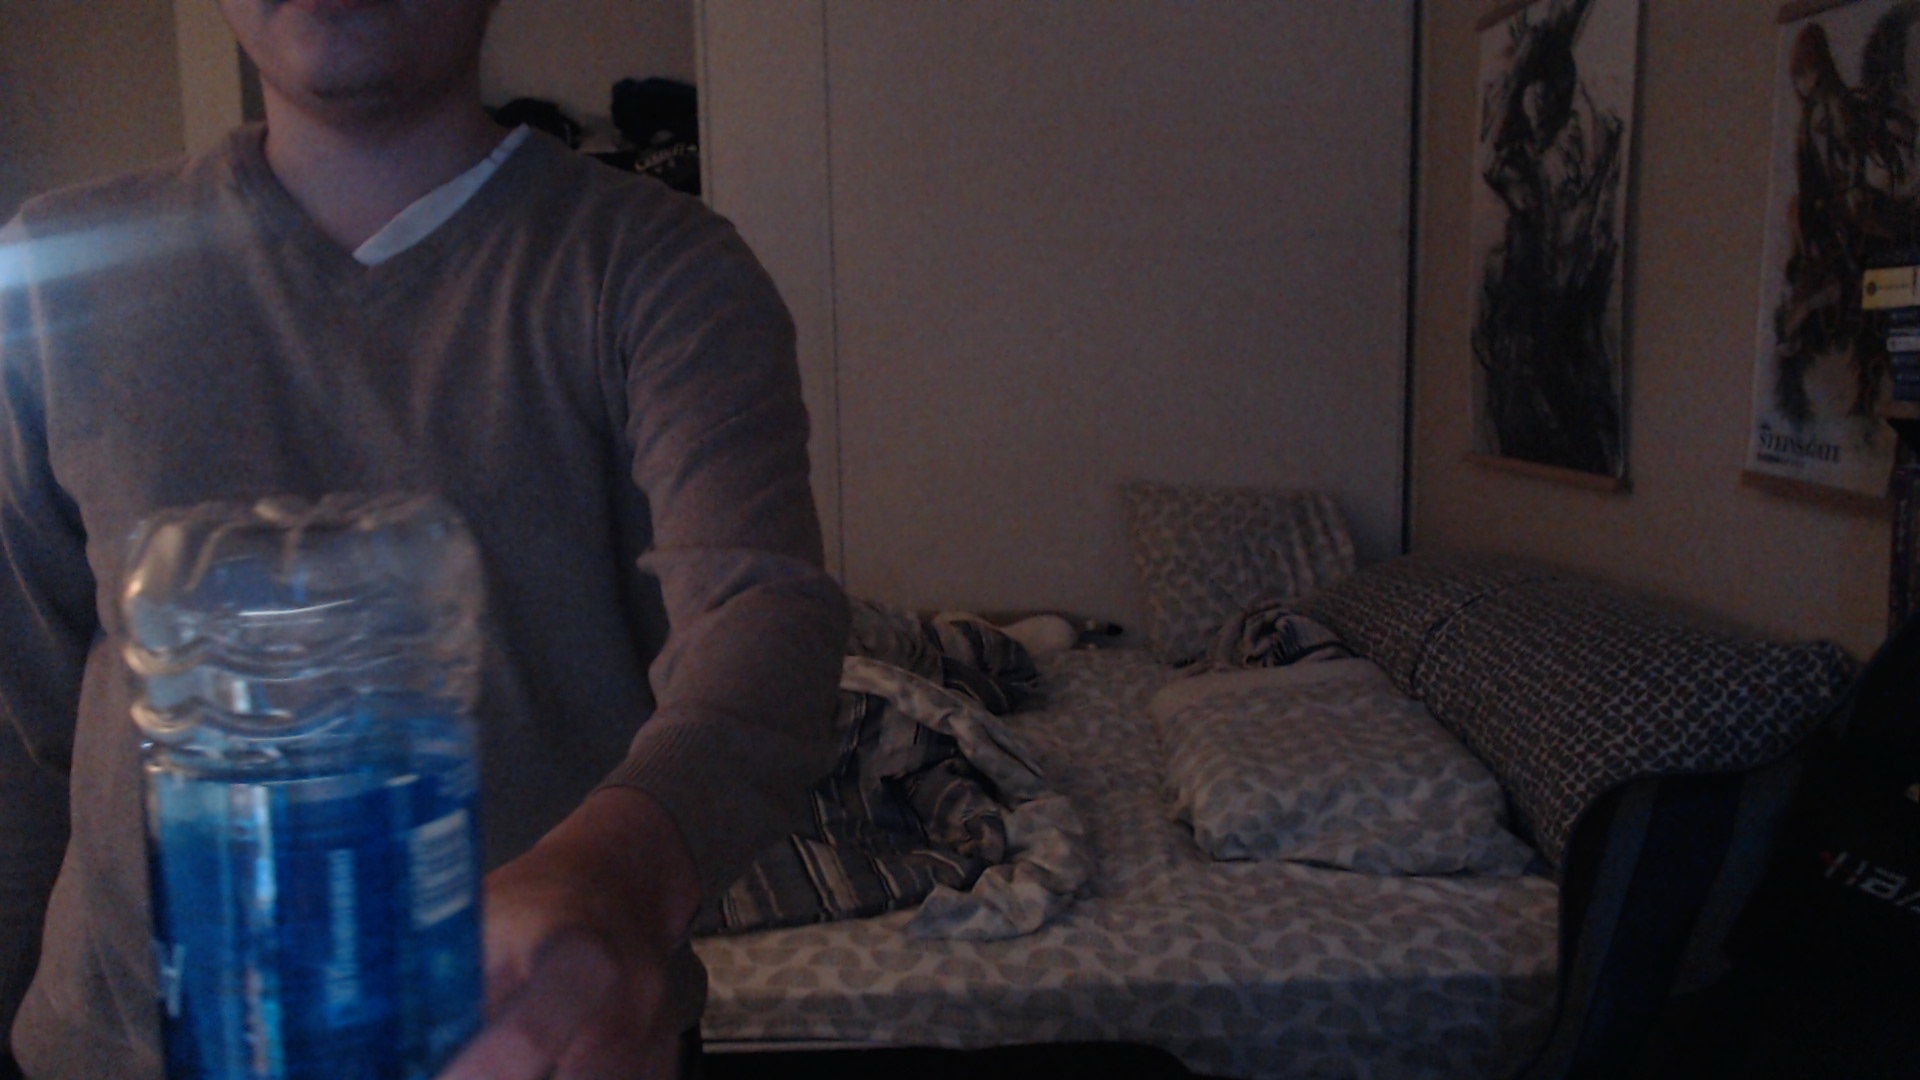bottle: (121, 493, 483, 1080)
